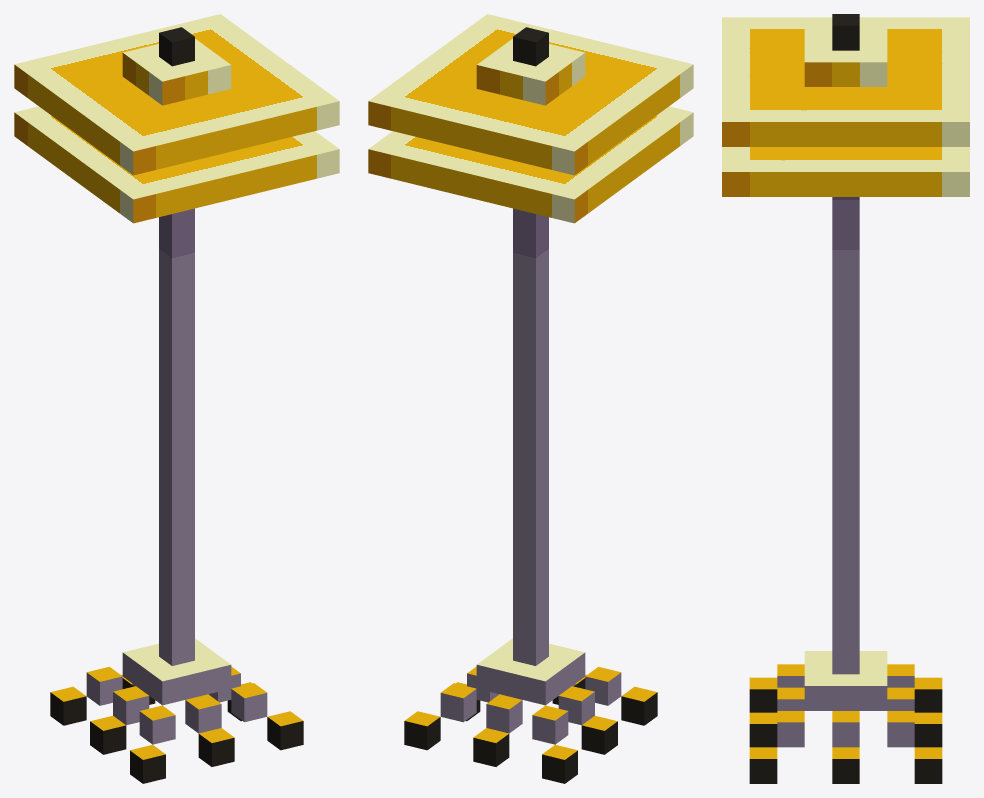
Rendered from int_hihatao.fezao.glb.
3 views of the same model, side by side, from view 1: azimuth 30°, elevation 25°; view 2: azimuth 150°, elevation 25°; view 3: azimuth 270°, elevation 25° (orthographic). The views are drawn at different scales.
Visible parts, largest first — view 1: INT_HIHATAO; view 2: INT_HIHATAO; view 3: INT_HIHATAO.
Boxes of the visible parts, left/top/right/bottom form: INT_HIHATAO: left=14, top=14, right=339, bottom=783; INT_HIHATAO: left=368, top=14, right=693, bottom=783; INT_HIHATAO: left=722, top=14, right=969, bottom=783.
Bounding box in the file's own units: 0.5625 × 1.81 × 0.5625.
Materials: 1 (1 with a texture image).
